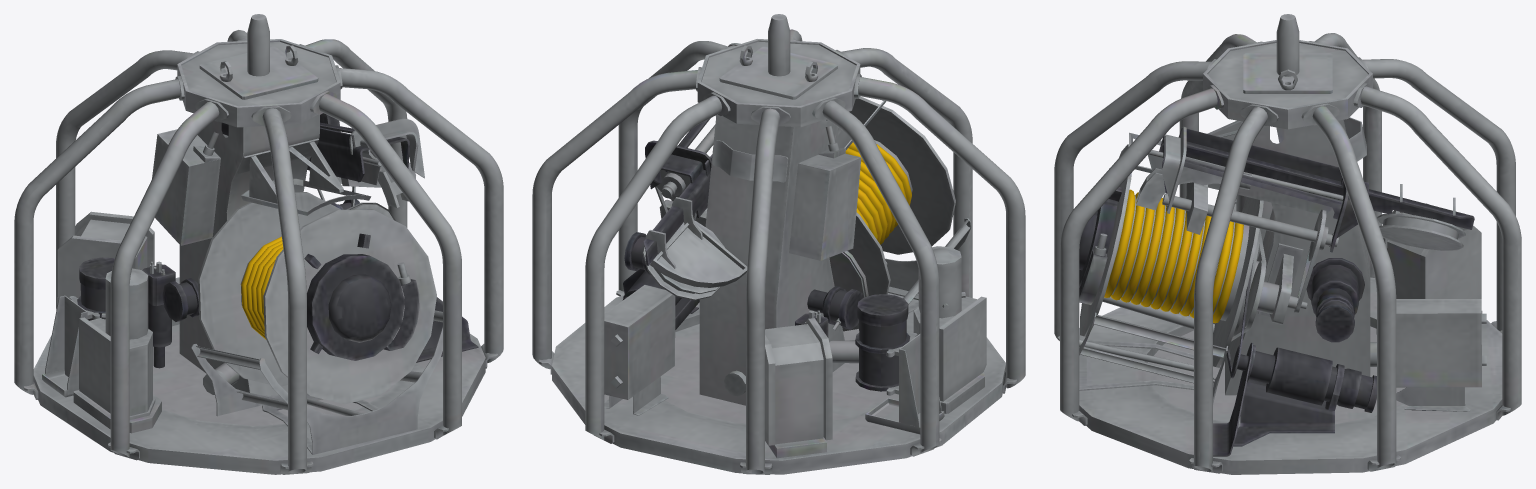
File: etms.glb
The picture shows the model from 3 angles, left to right: view 1: azimuth 30°, elevation 25°; view 2: azimuth 150°, elevation 25°; view 3: azimuth 270°, elevation 25°; orthographic projection.
Visible parts, largest first — view 1: etms; view 2: etms; view 3: etms.
Part boxes in pixels (x1=…): etms: x1=14, y1=14, x2=503, y2=474; etms: x1=532, y1=14, x2=1025, y2=474; etms: x1=1054, y1=14, x2=1521, y2=474.
Size of the model in its own units: 2.1 by 2.18 by 2.1.
1 material, 1 textured.
